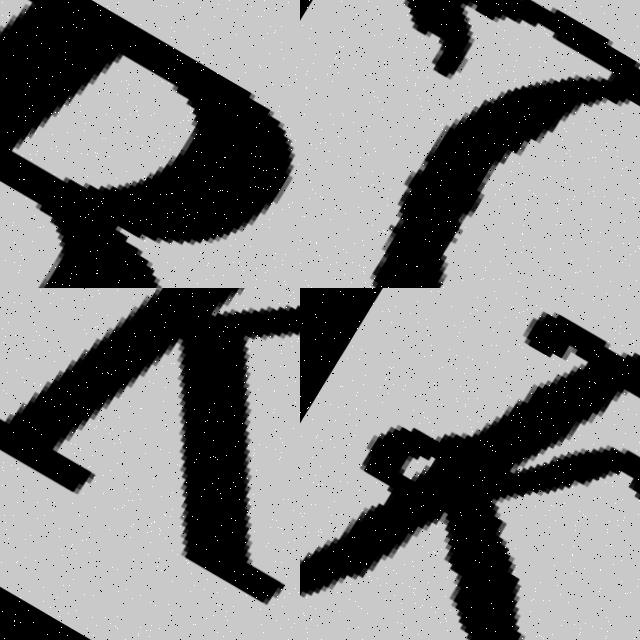B: (0, 0, 297, 288)
C: (370, 0, 640, 288)
K: (300, 288, 640, 640), (0, 288, 300, 640)
